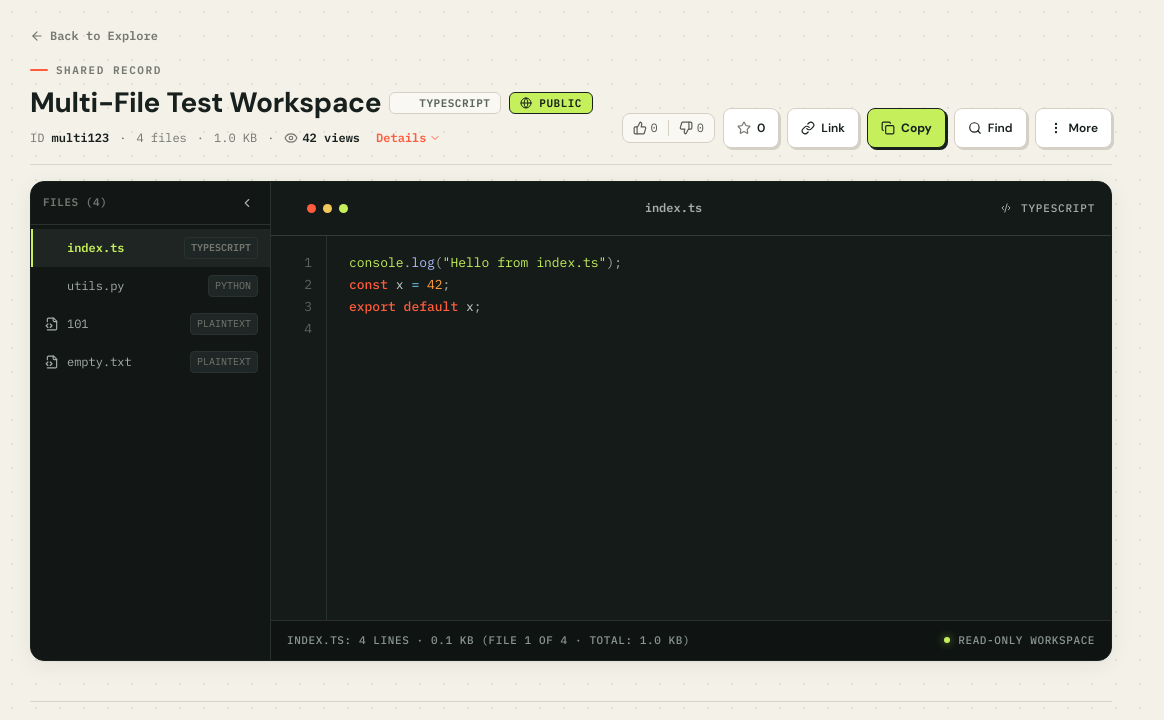
Multi-File Workspace (Developer Handoff Experience) › FE-WS-SRCH-01: Searching text renders matching highlight marks and navigates matches
Expected: the heading "Multi-File Test Workspace" is shown, [30, 86, 381, 120]
Open search toolbar via Find button
Click the button "Find" at x=990, y=128, box [954, 108, 1027, 148]
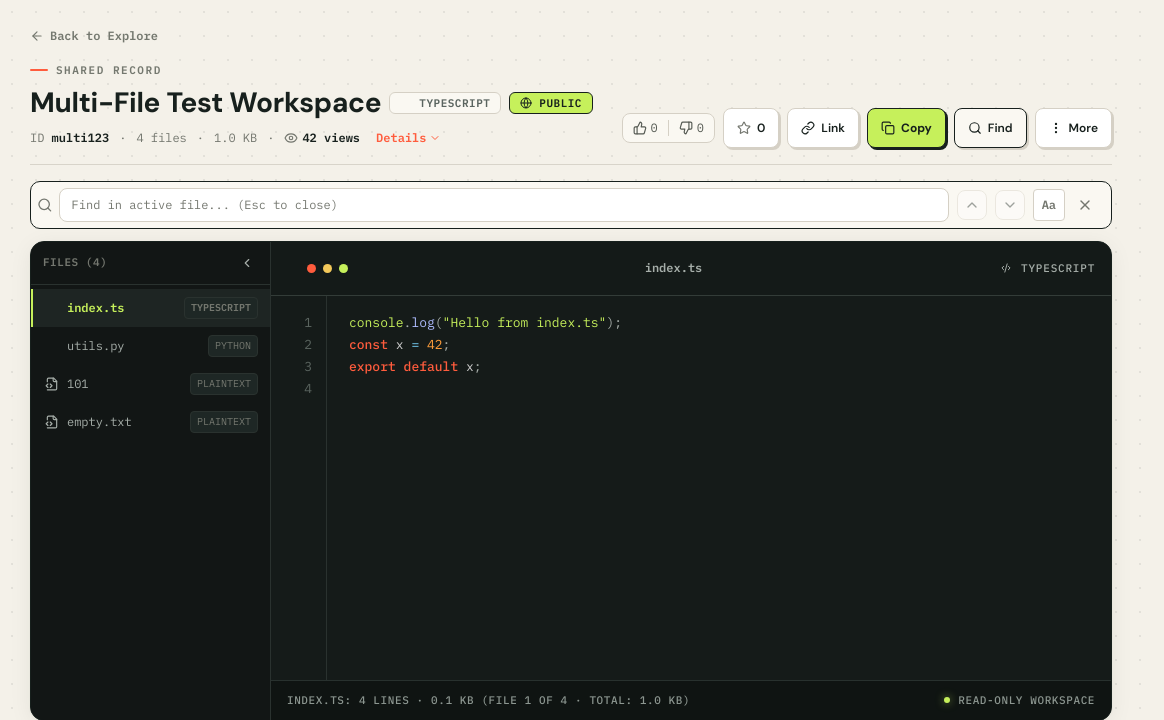
Expected: the field with placeholder "Find in active file... (Esc to close)" is shown
Type "Hello" into the field with placeholder "Find in active file... (Esc to close)" at x=504, y=205, box [59, 188, 949, 222]
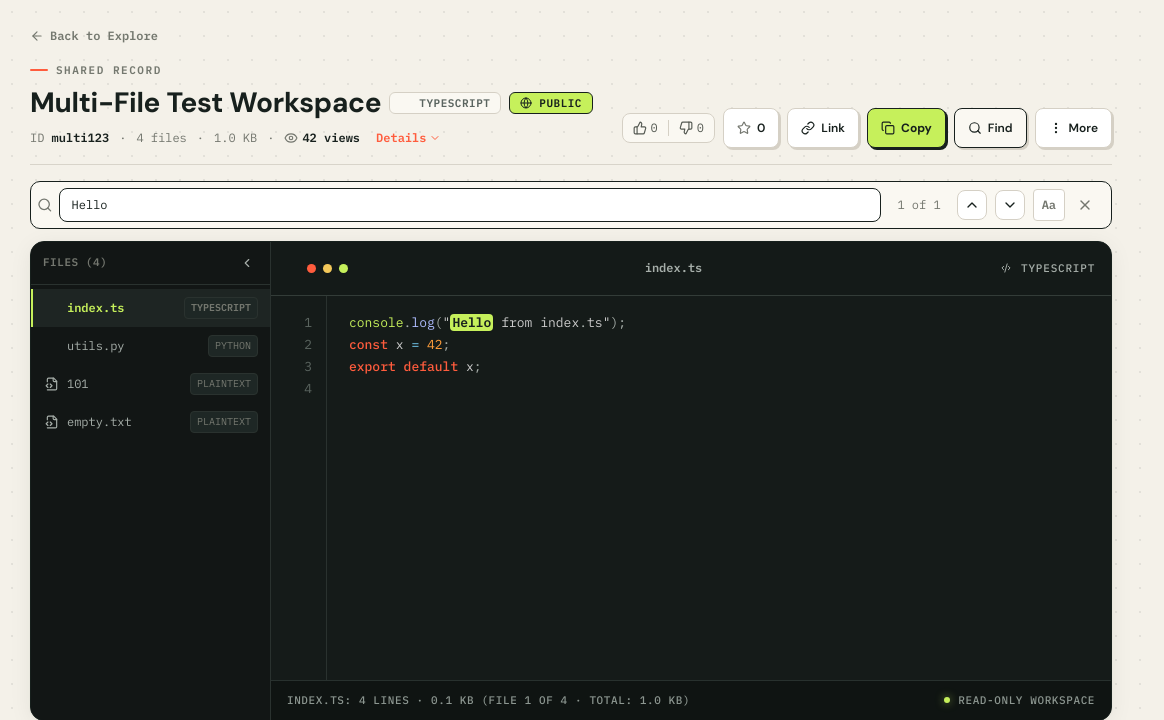
Expected: the text "Hello" is shown, [450, 314, 493, 331]
Expected: the text "1 of 1" is shown, [897, 197, 941, 212]
